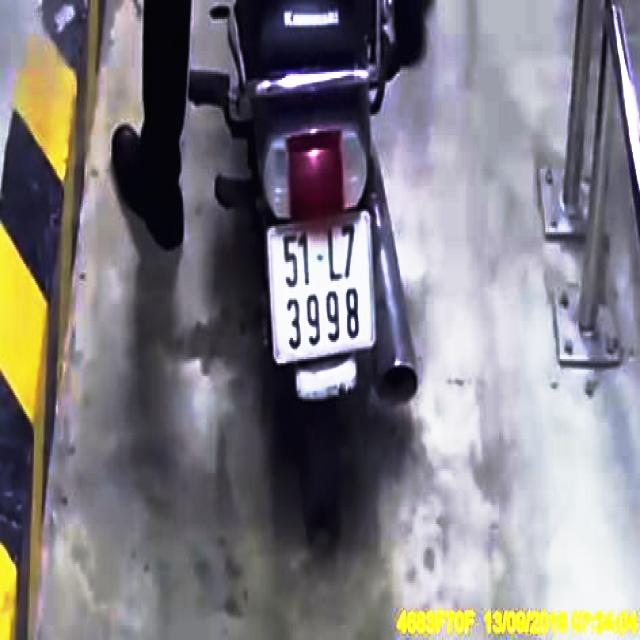license_plate: (269, 214, 376, 363)
